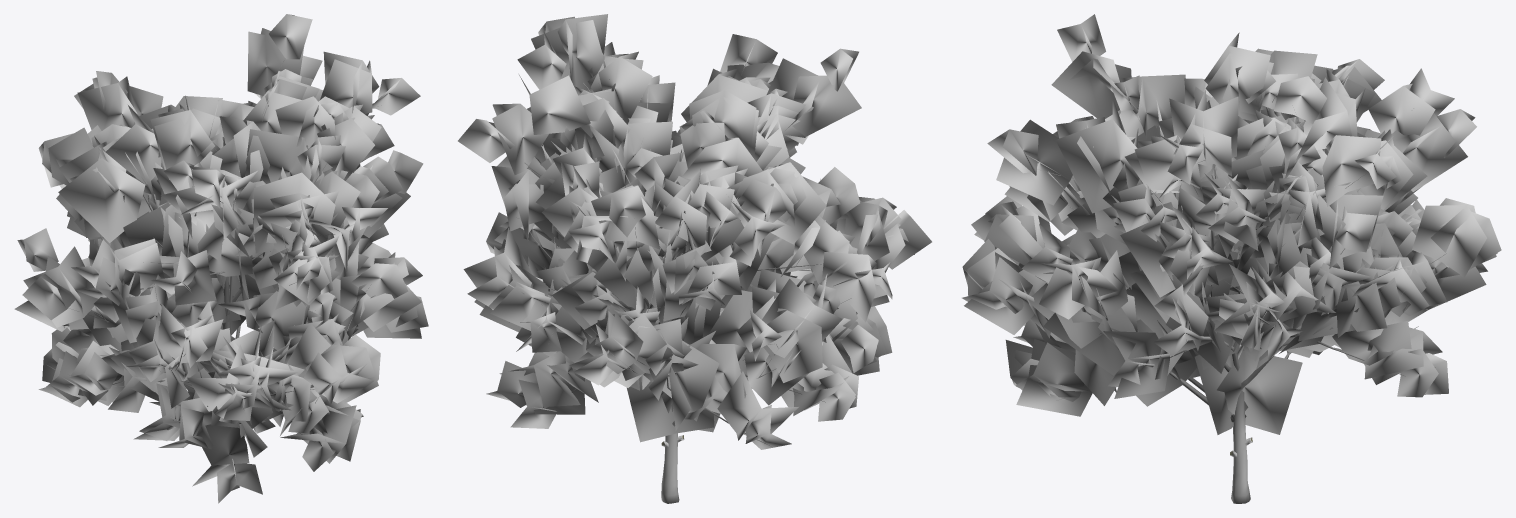
File: MapleHedge_D (1).fbx
The picture shows the model from 3 angles, left to right: view 1: azimuth 30°, elevation 25°; view 2: azimuth 150°, elevation 25°; view 3: azimuth 270°, elevation 25°; orthographic projection. The views are drawn at different scales.
Visible parts, largest first — view 1: MapleHedge_D_LOD0; view 2: MapleHedge_D_LOD0; view 3: MapleHedge_D_LOD0.
Boxes of the visible parts, box(x1,y1,x2,y2) form: MapleHedge_D_LOD0: box(14, 14, 428, 503); MapleHedge_D_LOD0: box(458, 14, 931, 503); MapleHedge_D_LOD0: box(962, 14, 1501, 503).
Size of the model in its own units: 864 by 940 by 977.
